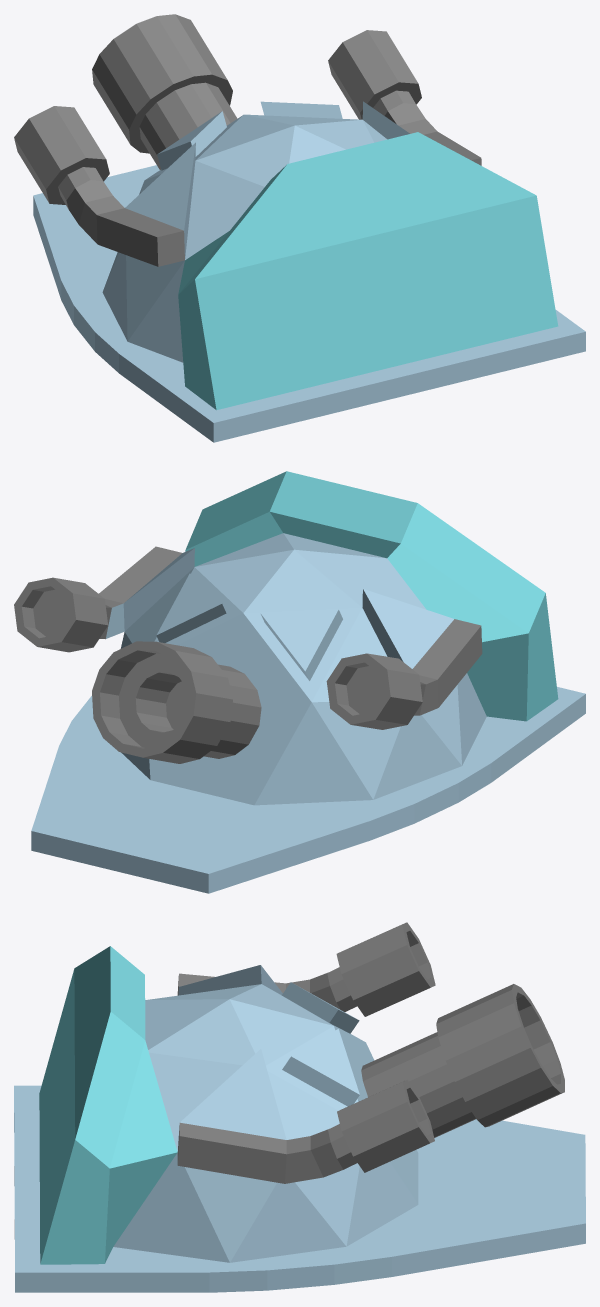
File: tower2.fbx
3 renders of one model, top to bottom at view 1: azimuth 30°, elevation 25°; view 2: azimuth 150°, elevation 25°; view 3: azimuth 270°, elevation 25°, orthographic. The views are drawn at different scales.
Visible parts, largest first — view 1: Icosphere.003, Icosphere.004, Icosphere, Icosphere.001, Icosphere.002; view 2: Icosphere, Icosphere.004, Icosphere.003, Icosphere.001, Icosphere.002; view 3: Icosphere, Icosphere.004, Icosphere.003, Icosphere.001, Icosphere.002.
Part boxes in pixels (bbox=[...]): Icosphere.003: bbox=[178, 132, 558, 410]; Icosphere.004: bbox=[33, 165, 585, 442]; Icosphere: bbox=[102, 101, 409, 362]; Icosphere.001: bbox=[14, 30, 481, 266]; Icosphere.002: bbox=[92, 14, 237, 169]; Icosphere: bbox=[106, 533, 486, 805]; Icosphere.004: bbox=[31, 687, 585, 893]; Icosphere.003: bbox=[185, 471, 558, 721]; Icosphere.001: bbox=[14, 546, 482, 729]; Icosphere.002: bbox=[92, 641, 261, 763]; Icosphere: bbox=[113, 965, 418, 1262]; Icosphere.004: bbox=[14, 1085, 585, 1292]; Icosphere.003: bbox=[39, 946, 177, 1264]; Icosphere.001: bbox=[177, 922, 435, 1183]; Icosphere.002: bbox=[361, 984, 564, 1137].
Bounding box in the file's own units: 225 × 123 × 288.
